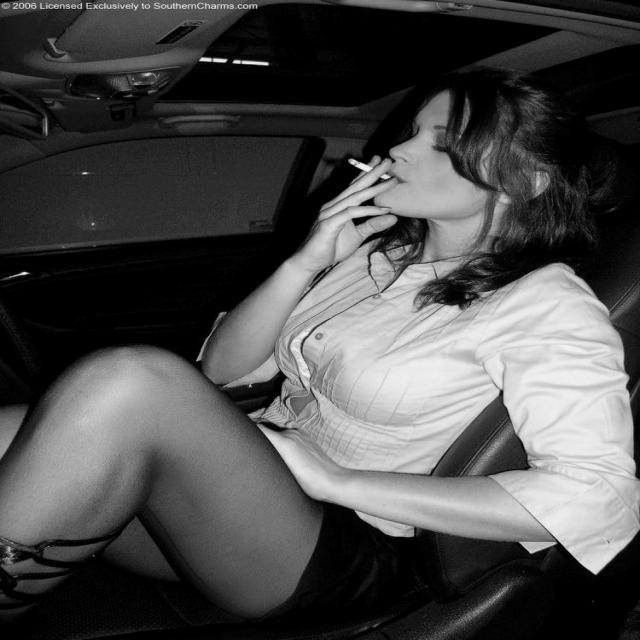Cigarette: (345, 157, 397, 183)
